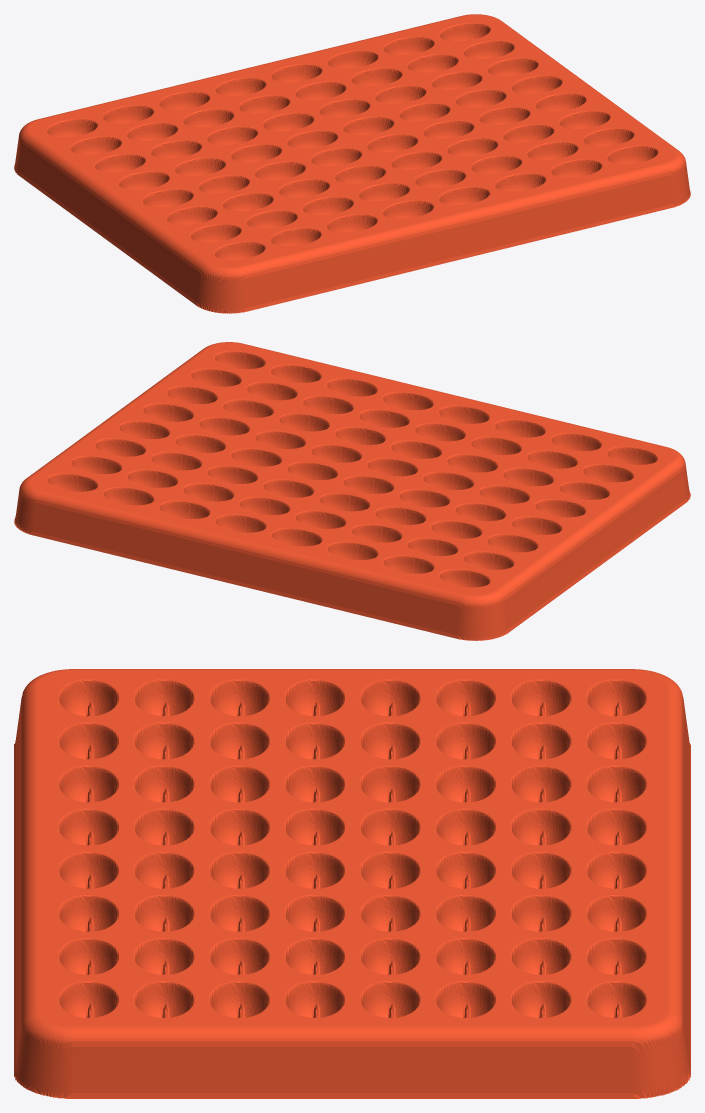
Rendered from mold.glb.
3 views of the same model, one above another, from view 1: azimuth 30°, elevation 25°; view 2: azimuth 150°, elevation 25°; view 3: azimuth 270°, elevation 25° (orthographic). The views are drawn at different scales.
Visible parts, largest first — view 1: geometry_0; view 2: geometry_0; view 3: geometry_0.
Boxes of the visible parts, box(x1,y1,x2,y2) form: geometry_0: box(14, 14, 690, 313); geometry_0: box(14, 342, 690, 640); geometry_0: box(14, 669, 690, 1098).
Bounding box in the file's own units: 0.1355 × 0.0105 × 0.1031.
